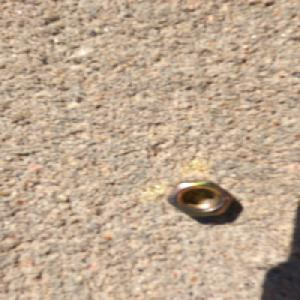Nut: (166, 179, 235, 218)
